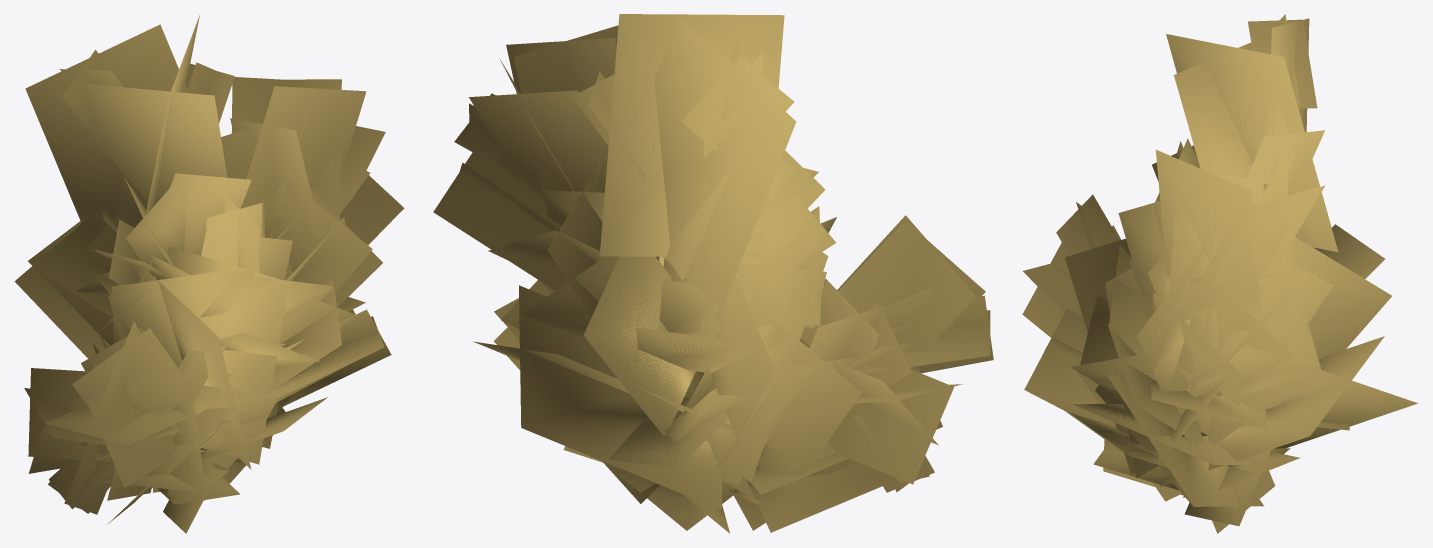
Rendered from cmc_quakingaspen_LOD_1.fbx.
3 renders of one model, left to right at view 1: azimuth 30°, elevation 25°; view 2: azimuth 150°, elevation 25°; view 3: azimuth 270°, elevation 25°, orthographic. The views are drawn at different scales.
Parts seen in each view (by area): view 1: quaking_aspen_leaves; view 2: quaking_aspen_leaves; view 3: quaking_aspen_leaves.
Boxes of the visible parts, box(x1,y1,x2,y2) form: quaking_aspen_leaves: box(14, 15, 404, 533); quaking_aspen_leaves: box(433, 14, 993, 533); quaking_aspen_leaves: box(1022, 14, 1417, 533).
Size of what is drawn, in the model's own units: 10.32 by 11.16 by 8.07.
